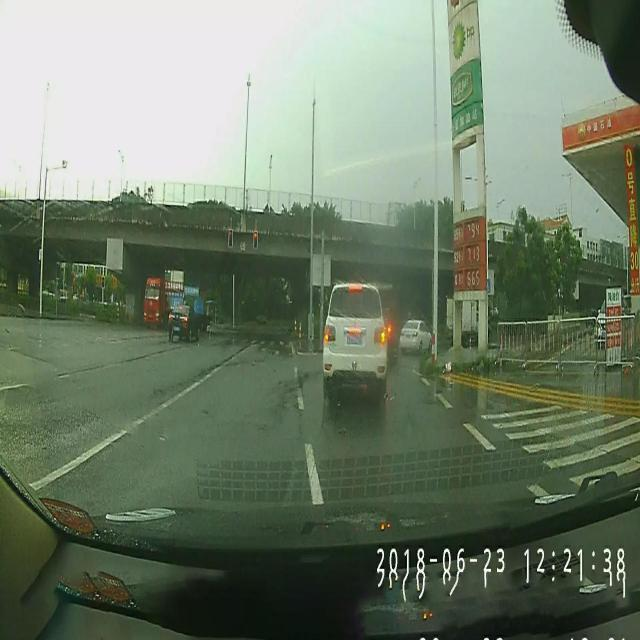car: (322, 282, 389, 394), (398, 317, 433, 353), (167, 304, 200, 342)
